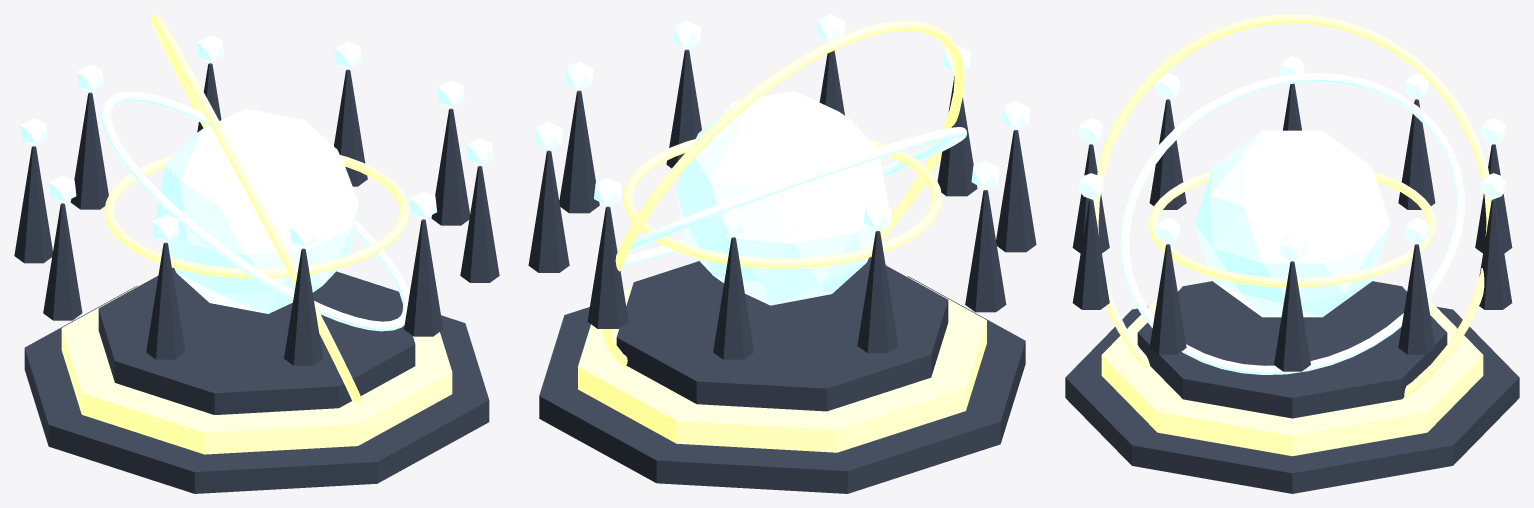
File: gpu-blender-v2.glb
3 views of the same model, side by side, from view 1: azimuth 30°, elevation 25°; view 2: azimuth 150°, elevation 25°; view 3: azimuth 270°, elevation 25° (orthographic). The views are drawn at different scales.
Parts seen in each view (by area): view 1: Cylinder.002, SovereignCore_omnipost-social-engine, Cylinder, Cylinder.001, Torus.001, Torus, Torus.002, Cone.004, Cone.005, Cone.008, Cone.006, Cone.007 (+15 smaller); view 2: Cylinder.002, SovereignCore_omnipost-social-engine, Cylinder, Cylinder.001, Torus.002, Torus, Torus.001, Cone.004, Cone.005, Cone.006, Cone.003, Cone.001 (+14 smaller); view 3: SovereignCore_omnipost-social-engine, Cylinder.002, Cylinder, Cylinder.001, Torus.001, Torus.002, Torus, Cone.001, Cone.009, Cone, Cone.008, Cone.002 (+14 smaller).
Part boxes in pixels (x1,y1,x2,y2): Cylinder.002: (98, 267, 415, 414); SovereignCore_omnipost-social-engine: (155, 108, 358, 313); Cylinder: (24, 286, 489, 493); Cylinder.001: (61, 276, 452, 454); Torus.001: (101, 91, 409, 331); Torus: (104, 155, 409, 278); Torus.002: (150, 14, 361, 403); Cone.004: (14, 146, 52, 263); Cone.005: (43, 203, 82, 320); Cone.008: (404, 219, 443, 336); Cone.006: (146, 242, 185, 359); Cone.007: (284, 248, 323, 365); Cylinder.002: (616, 257, 948, 411); SovereignCore_omnipost-social-engine: (676, 90, 888, 305); Cylinder: (539, 276, 1025, 493); Cylinder.001: (578, 266, 986, 452); Torus.002: (601, 20, 964, 366); Torus: (623, 139, 941, 268); Torus.001: (617, 127, 966, 266); Cone.004: (857, 231, 898, 353); Cone.005: (965, 190, 1006, 312); Cone.006: (996, 130, 1036, 252); Cone.003: (713, 237, 754, 359); Cone.001: (528, 150, 569, 272); SovereignCore_omnipost-social-engine: (1194, 130, 1390, 317); Cylinder.002: (1137, 281, 1447, 418); Cylinder: (1065, 306, 1519, 493); Cylinder.001: (1101, 298, 1483, 456); Torus.001: (1120, 73, 1464, 374); Torus.002: (1092, 14, 1492, 398); Torus: (1148, 171, 1436, 287); Cone.001: (1398, 244, 1435, 354); Cone.009: (1149, 244, 1186, 354); Cone: (1274, 261, 1310, 371); Cone.008: (1072, 199, 1109, 309); Cone.002: (1479, 199, 1512, 309).
Size of the model in its own units: 4.41 by 3.72 by 4.4.
